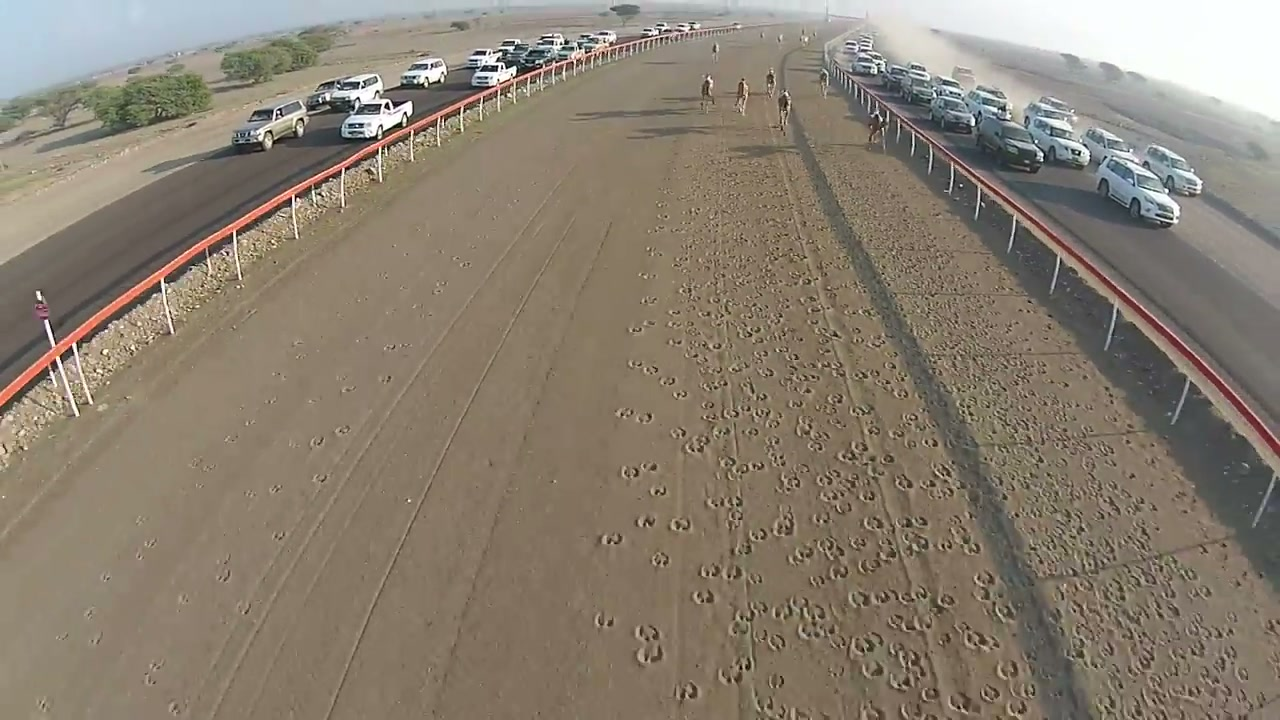animal_footprint: (648, 182, 1010, 717), (634, 625, 664, 665), (717, 656, 754, 684), (675, 681, 700, 702), (215, 555, 231, 582), (699, 563, 723, 579), (593, 611, 614, 628), (722, 565, 744, 581), (692, 589, 715, 604), (669, 517, 691, 532), (651, 551, 670, 568), (619, 465, 640, 479), (766, 673, 784, 689), (600, 532, 622, 545), (636, 514, 656, 528), (36, 696, 51, 714), (215, 566, 231, 582), (167, 700, 183, 716), (147, 658, 164, 673), (89, 631, 104, 647), (639, 461, 659, 473), (649, 484, 667, 497), (615, 407, 635, 418), (669, 427, 687, 439), (176, 592, 190, 607), (634, 412, 653, 423), (640, 295, 659, 306), (334, 424, 351, 436), (627, 358, 645, 369), (309, 436, 325, 448), (659, 376, 677, 386), (643, 365, 660, 375), (83, 606, 96, 619), (313, 473, 328, 484), (272, 530, 286, 541), (268, 483, 282, 494), (672, 389, 687, 399), (340, 384, 356, 393), (243, 488, 256, 499), (143, 538, 157, 548), (629, 325, 644, 334), (99, 571, 111, 582), (379, 374, 393, 383)
